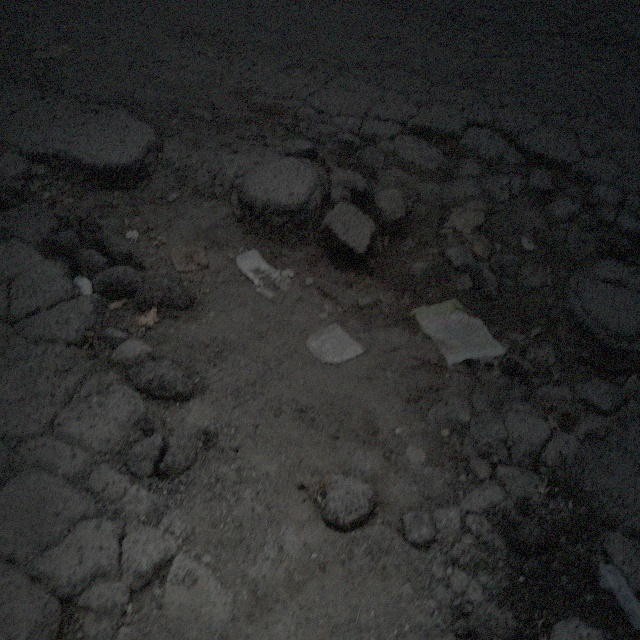pothole: (19, 96, 608, 580)
